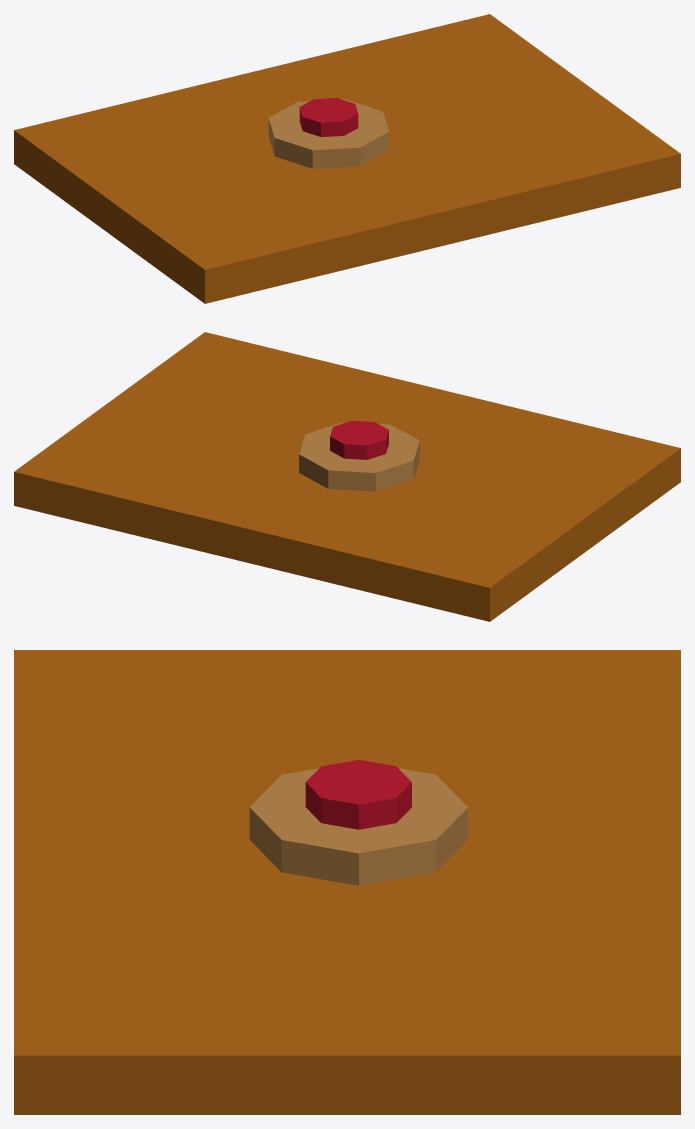
The model's file is SM_Prototype _11.fbx.
The picture shows the model from 3 angles, top to bottom: view 1: azimuth 30°, elevation 25°; view 2: azimuth 150°, elevation 25°; view 3: azimuth 270°, elevation 25°; orthographic projection. The views are drawn at different scales.
Parts seen in each view (by area): view 1: SM_Prototype _11; view 2: SM_Prototype _11; view 3: SM_Prototype _11.
Boxes of the visible parts, x1=… form: SM_Prototype _11: x1=14, y1=14, x2=680, y2=303; SM_Prototype _11: x1=14, y1=332, x2=680, y2=621; SM_Prototype _11: x1=14, y1=650, x2=680, y2=1114.
Bounding box in the file's own units: 12.18 × 1.64 × 8.47.
